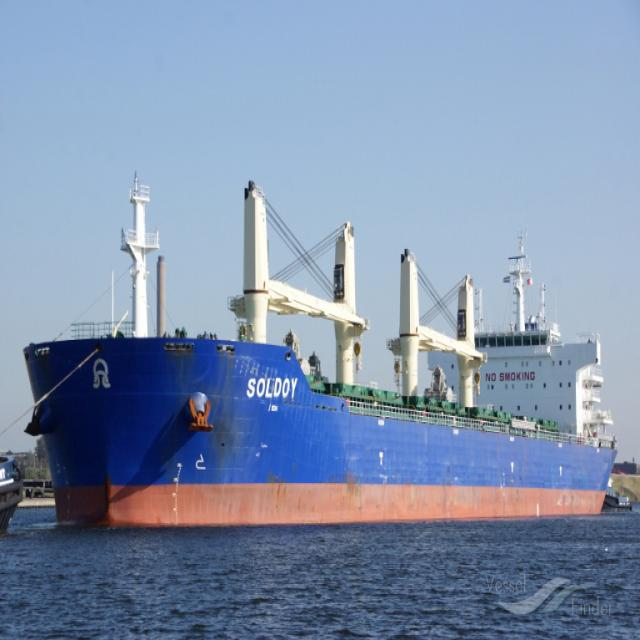OCR: (244, 368, 299, 403)
